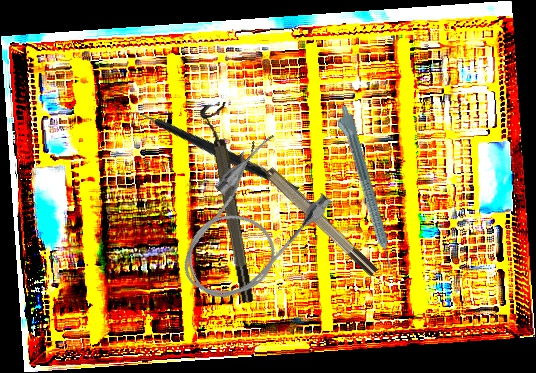Cannula: (156, 127, 342, 321)
Chopper: (122, 62, 301, 243)
Fixation Ring: (236, 140, 381, 285), (198, 102, 258, 305)
Handpiece: (331, 104, 397, 271)
